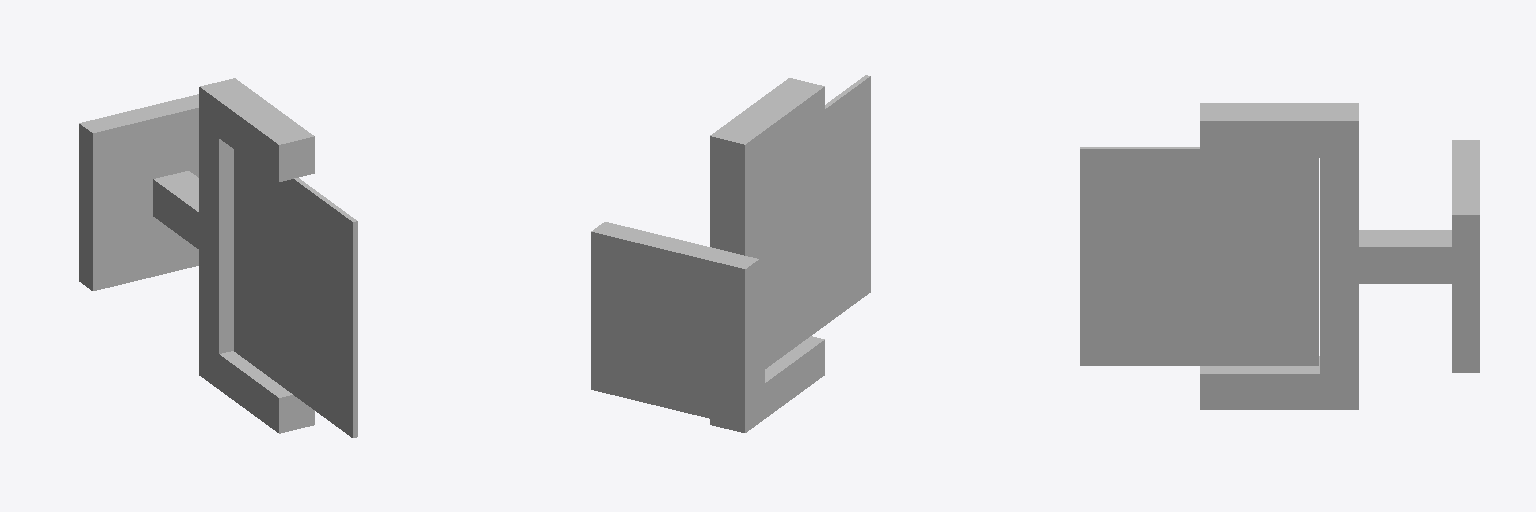
Rendered from Screen.obj.
The picture shows the model from 3 angles: view 1: azimuth 30°, elevation 25°; view 2: azimuth 150°, elevation 25°; view 3: azimuth 270°, elevation 25°; orthographic projection.
Size of the model in its own units: 4.48 by 8.01 by 10.02.